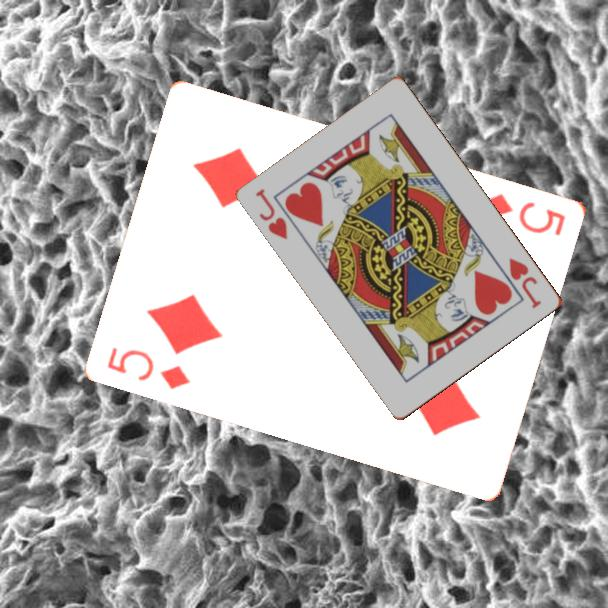d05: (479, 189, 569, 239), (104, 343, 194, 393)
h11: (506, 254, 545, 312), (252, 185, 291, 243)
